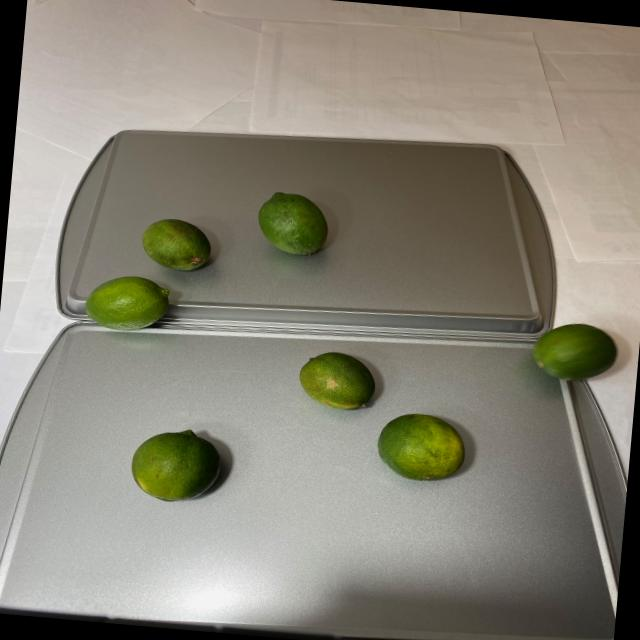lemon: (126, 288, 618, 546), (83, 175, 337, 358)
